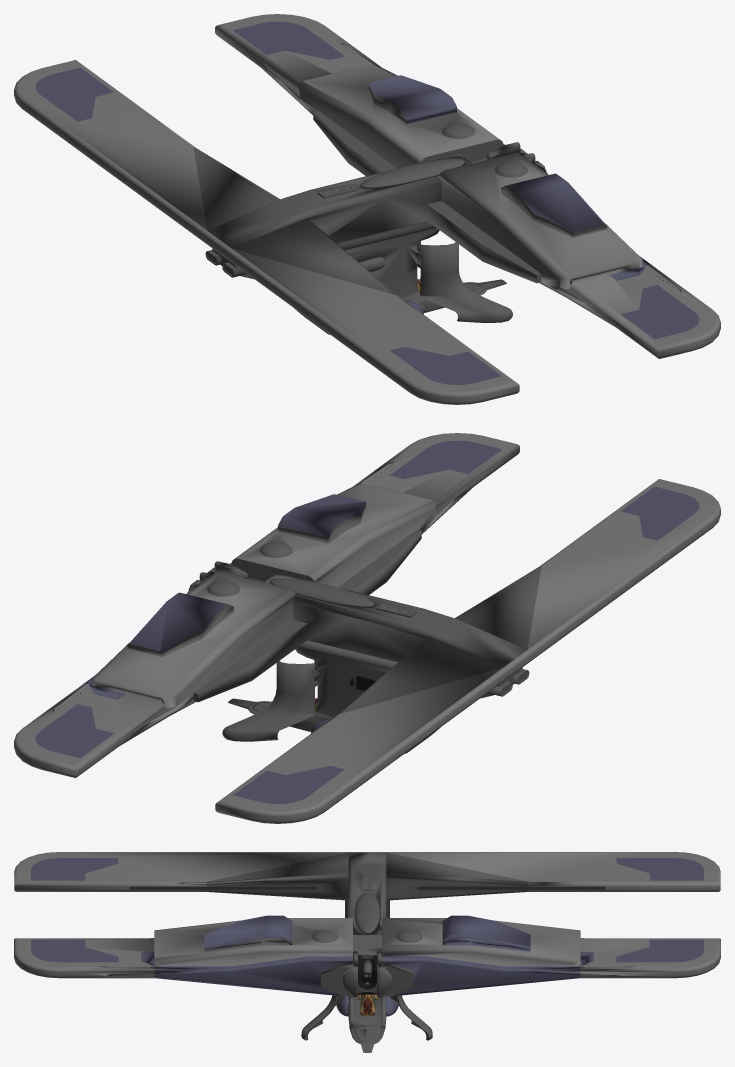
Rendered from lander.glb.
3 renders of one model, top to bottom at view 1: azimuth 30°, elevation 25°; view 2: azimuth 150°, elevation 25°; view 3: azimuth 270°, elevation 25°, orthographic. The views are drawn at different scales.
Parts seen in each view (by area): view 1: Object_255, Object_252, Object_254; view 2: Object_255, Object_252, Object_254; view 3: Object_255, Object_254, Object_252, Object_256, Object_253.
Boxes of the visible parts, bbox=[...] form: Object_255: bbox=[14, 14, 720, 404]; Object_252: bbox=[193, 62, 611, 334]; Object_254: bbox=[35, 21, 699, 384]; Object_255: bbox=[14, 433, 720, 823]; Object_252: bbox=[123, 481, 541, 753]; Object_254: bbox=[35, 440, 699, 803]; Object_255: bbox=[14, 852, 720, 978]; Object_254: bbox=[31, 858, 703, 1016]; Object_252: bbox=[151, 852, 583, 1052]; Object_256: bbox=[129, 886, 605, 889]; Object_253: bbox=[358, 955, 376, 994].
Bounding box in the file's own units: 133 × 58.71 × 319.
Materials: 17 (4 with a texture image).
